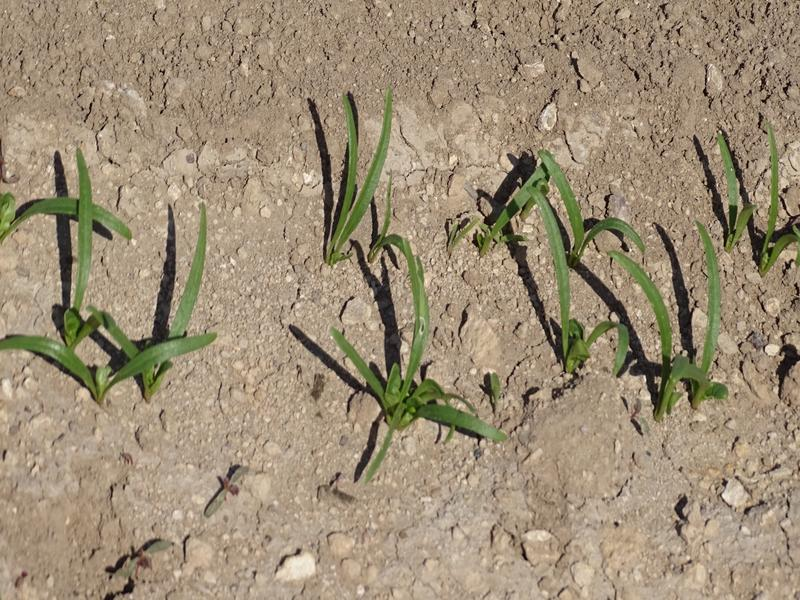Espinaca: (469, 159, 724, 406), (16, 168, 219, 397), (310, 251, 505, 454), (725, 146, 797, 257), (334, 98, 385, 247)
